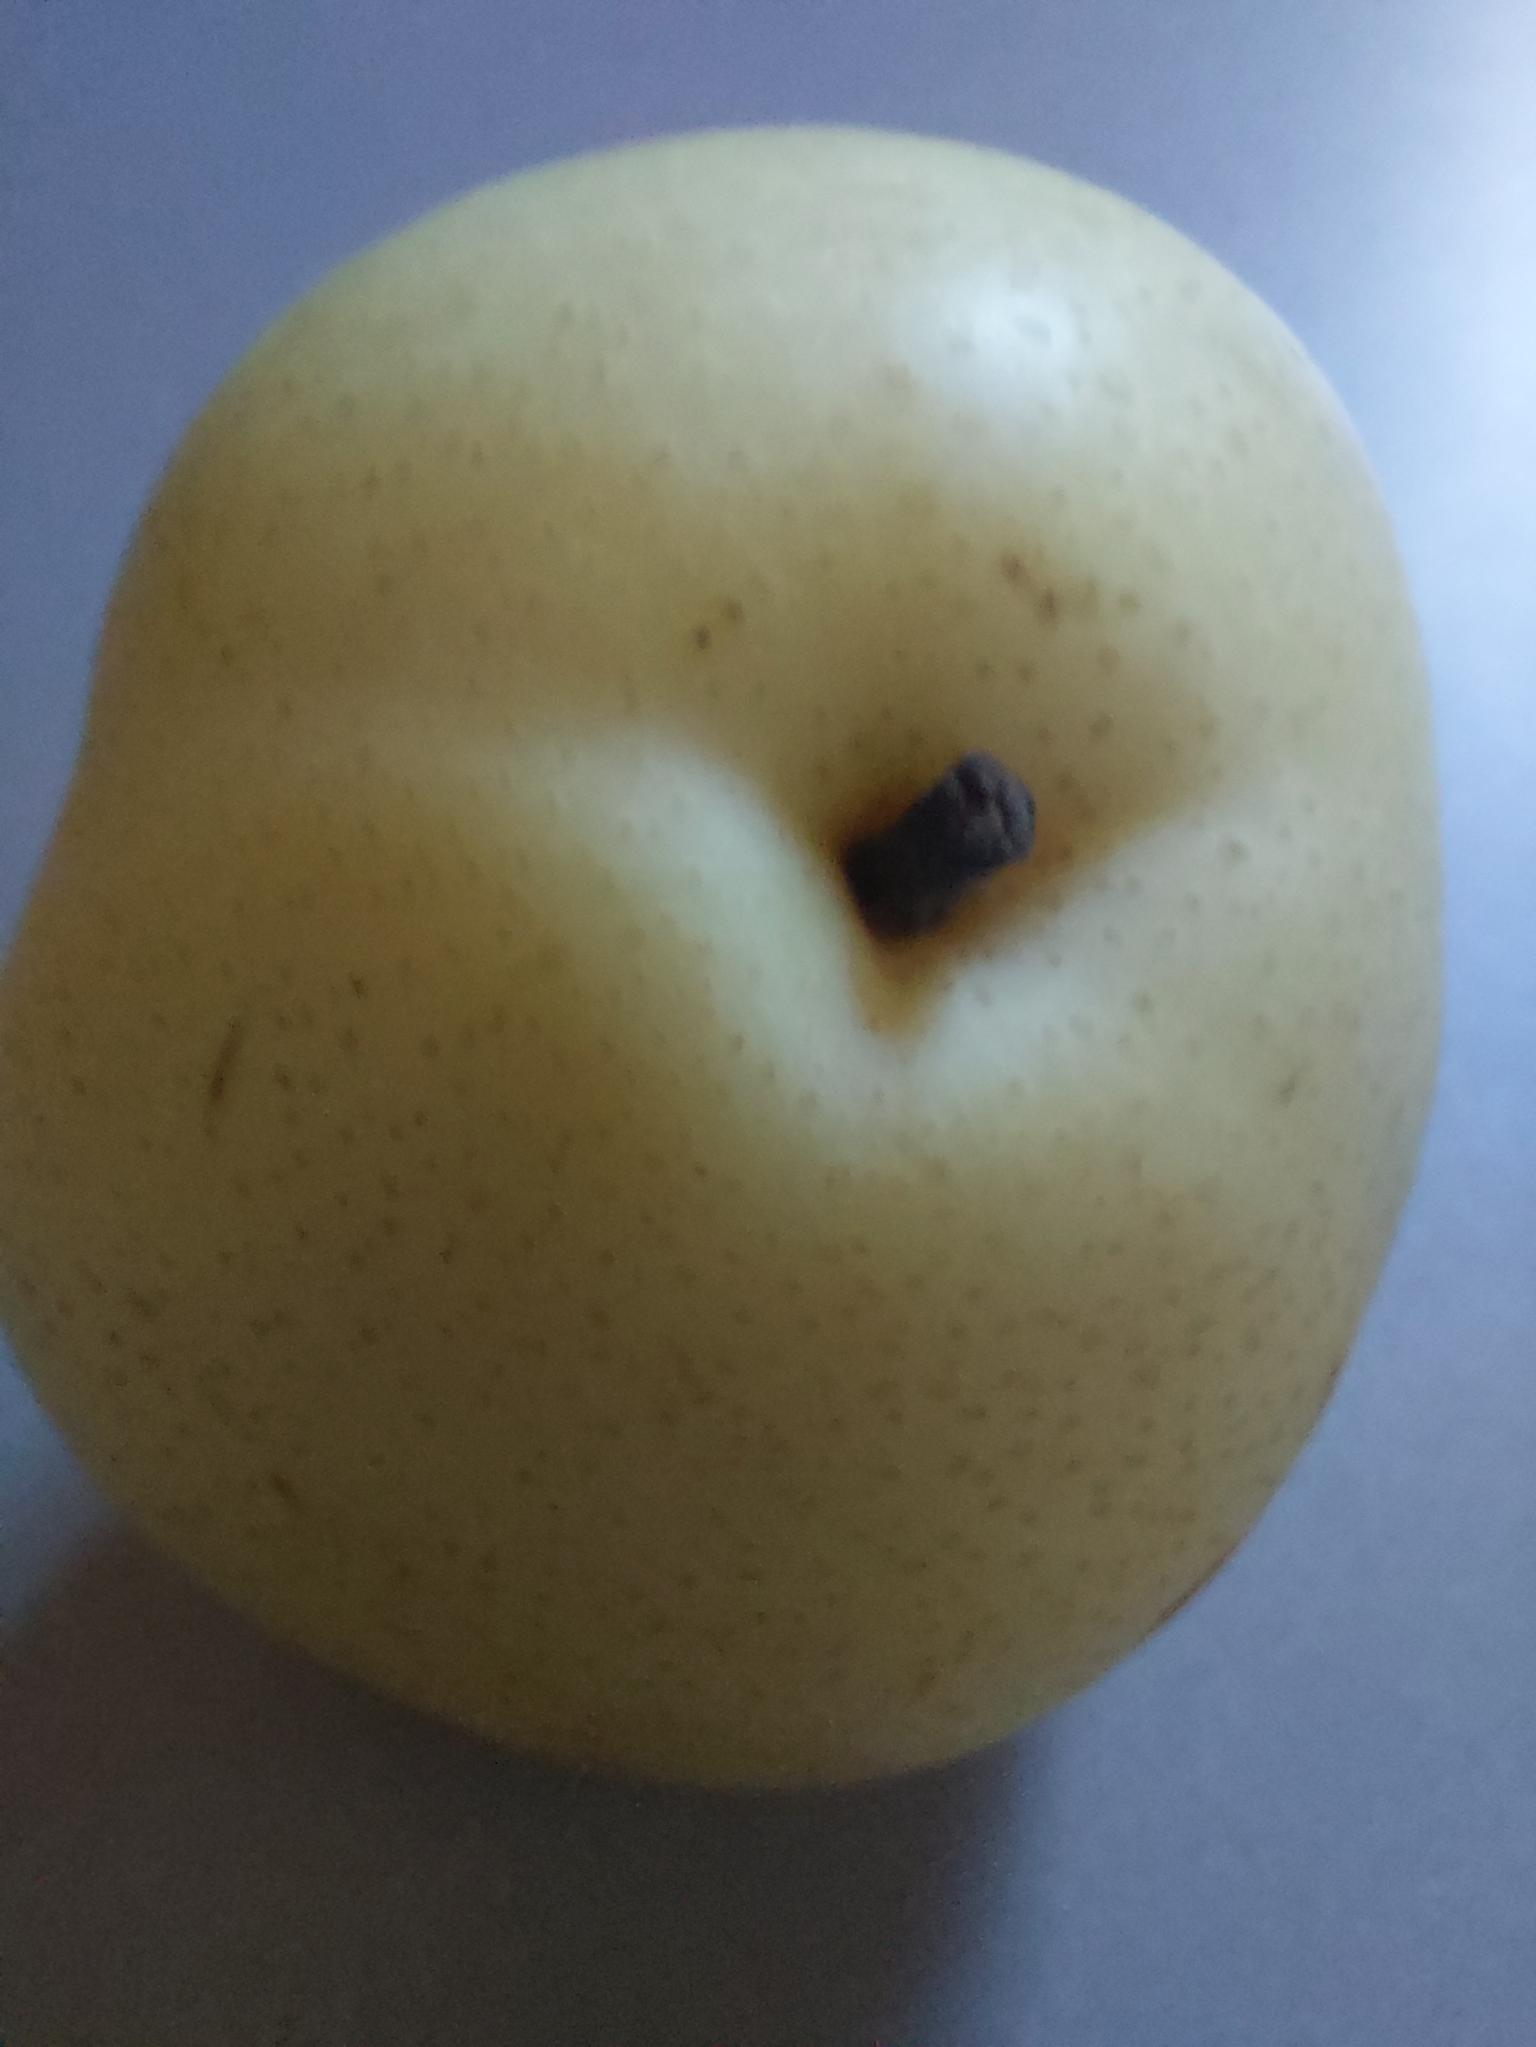Good Pear: (0, 113, 1457, 1808)
